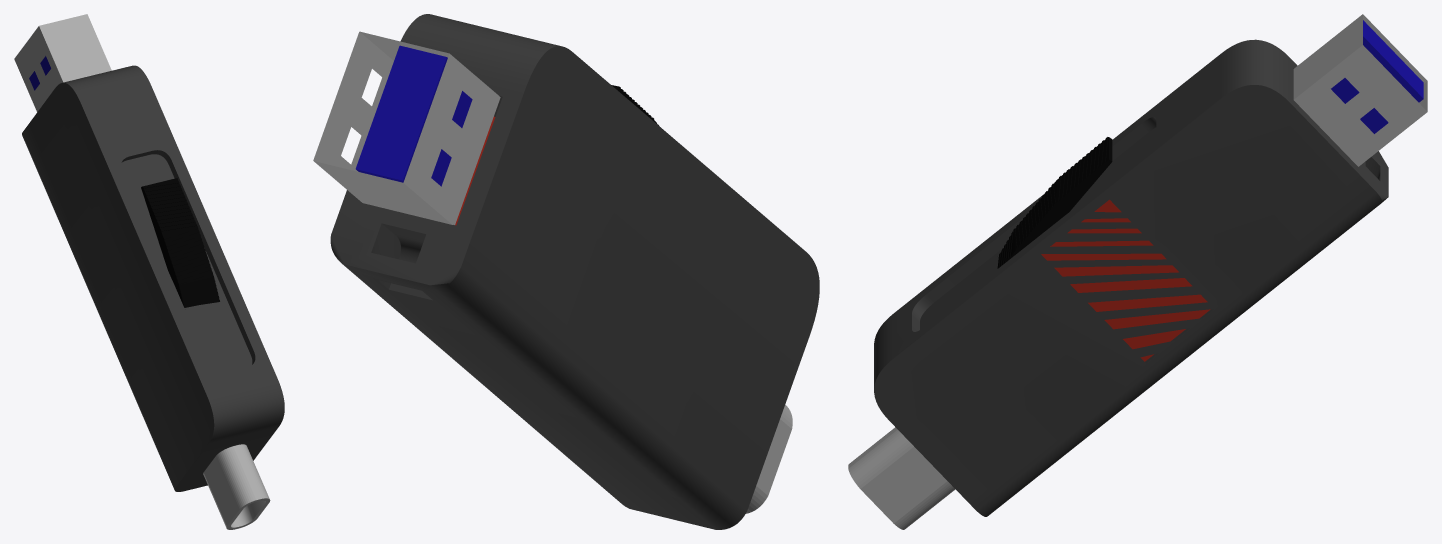
File: AIGO.fbx
3 renders of one model, left to right at view 1: azimuth 30°, elevation 25°; view 2: azimuth 150°, elevation 25°; view 3: azimuth 270°, elevation 25°, orthographic. The views are drawn at different scales.
Visible parts, largest first — view 1: Box001, Box003, Box002, 对象002; view 2: Box001, Box002, 对象001, 对象002; view 3: Box001, Box002, Box004, 对象002, Box003, 对象001.
Part boxes in pixels (x1,y1,x2,y2): Box001: (22,65,284,491); Box003: (141,178,219,307); Box002: (14,14,111,111); 对象002: (203,444,270,529); Box001: (330,14,819,529); Box002: (313,31,500,224); 对象001: (355,45,472,186); 对象002: (746,404,792,513); Box001: (874,39,1388,516); Box002: (1293,14,1427,166); Box004: (1041,199,1210,361); 对象002: (848,427,955,529); Box003: (997,137,1112,268); 对象001: (1331,20,1423,133).
Bounding box in the file's own units: 6.93 × 35.71 × 37.7.
